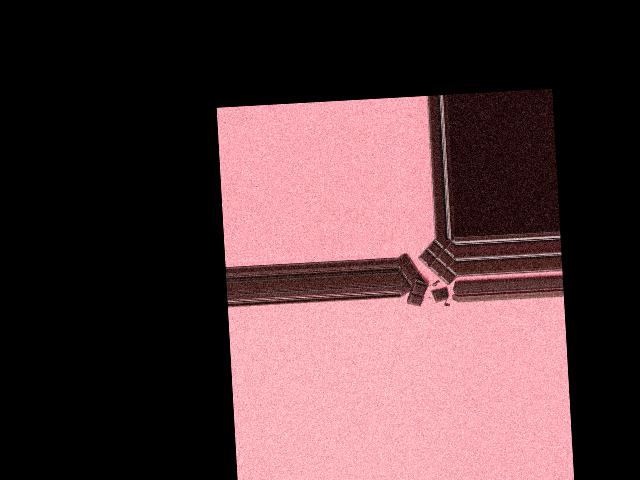chocolate: (400, 236, 458, 303)
